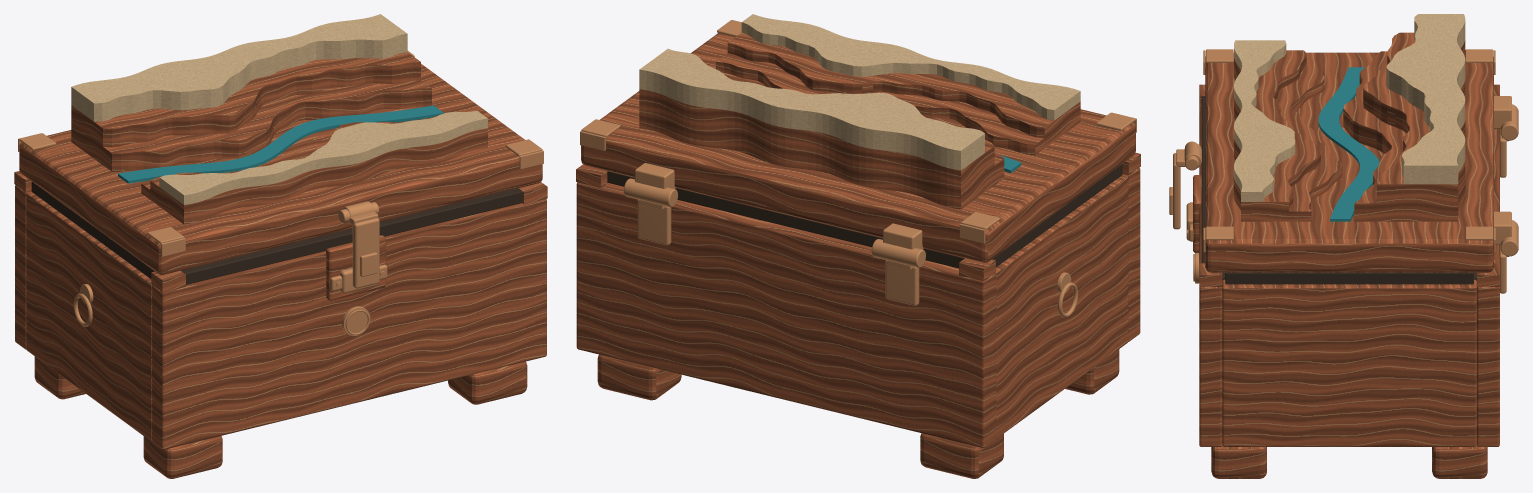
Rendered from united-states.glb.
The picture shows the model from 3 angles, left to right: view 1: azimuth 30°, elevation 25°; view 2: azimuth 150°, elevation 25°; view 3: azimuth 270°, elevation 25°; orthographic projection. The views are drawn at different scales.
Parts seen in each view (by area): view 1: Canyon body / long, Lid / polished slab, Canyon body / side, Canyon rim / 1 terrace 2, Canyon rim / 1 terrace 0, Canyon rim / 1 terrace 1, Canyon rim / -1 terrace 2, Gorge seam / long, Canyon rim / -1 terrace 0, Canyon rim / -1 terrace 1, River / continuous winding channel, Canyon / stone foot (+8 smaller); view 2: Canyon body / long.001, Lid / polished slab, Canyon body / side, Canyon rim / 1 terrace 2, Canyon rim / -1 terrace 2, Canyon rim / -1 terrace 1, Canyon rim / 1 terrace 0, Canyon rim / 1 terrace 1, Canyon rim / -1 terrace 0, Gorge seam / long.001, Canyon / stone foot.001, Canyon / stone foot.003 (+10 smaller); view 3: Canyon body / side.001, Lid / polished slab, Canyon rim / 1 terrace 2, Canyon rim / -1 terrace 2, Canyon rim / 1 terrace 0, Canyon rim / 1 terrace 1, Canyon rim / -1 terrace 0, Canyon rim / -1 terrace 1, Canyon body / long.001, Canyon body / long, River / continuous winding channel, Gorge seam / side.001 (+15 smaller).
Part boxes in pixels (x1,y1,x2,y2): Canyon body / long: [152, 199, 546, 449]; Lid / polished slab: [19, 64, 542, 274]; Canyon body / side: [26, 192, 152, 441]; Canyon rim / 1 terrace 2: [71, 14, 407, 121]; Canyon rim / 1 terrace 0: [71, 80, 431, 171]; Canyon rim / 1 terrace 1: [71, 52, 420, 147]; Canyon rim / -1 terrace 2: [159, 111, 487, 204]; Gorge seam / long: [181, 188, 522, 284]; Canyon rim / -1 terrace 0: [141, 118, 487, 224]; Canyon rim / -1 terrace 1: [150, 111, 487, 214]; River / continuous winding channel: [118, 105, 443, 183]; Canyon / stone foot: [143, 436, 222, 478]; Canyon body / long.001: [576, 182, 995, 447]; Lid / polished slab: [581, 33, 1135, 262]; Canyon body / side: [994, 174, 1128, 439]; Canyon rim / 1 terrace 2: [639, 49, 984, 170]; Canyon rim / -1 terrace 2: [741, 14, 1080, 120]; Canyon rim / -1 terrace 1: [727, 32, 1080, 137]; Canyon rim / 1 terrace 0: [639, 108, 1004, 209]; Canyon rim / 1 terrace 1: [639, 89, 994, 189]; Canyon rim / -1 terrace 0: [716, 53, 1080, 155]; Gorge seam / long.001: [607, 171, 964, 268]; Canyon / stone foot.001: [920, 433, 1003, 478]; Canyon / stone foot.003: [597, 354, 681, 400]; Canyon body / side.001: [1222, 279, 1476, 446]; Lid / polished slab: [1205, 52, 1493, 272]; Canyon rim / 1 terrace 2: [1386, 14, 1465, 184]; Canyon rim / -1 terrace 2: [1233, 40, 1295, 201]; Canyon rim / 1 terrace 0: [1343, 51, 1465, 221]; Canyon rim / 1 terrace 1: [1363, 32, 1465, 202]; Canyon rim / -1 terrace 0: [1233, 60, 1342, 221]; Canyon rim / -1 terrace 1: [1233, 50, 1320, 211]; Canyon body / long.001: [1477, 128, 1499, 446]; Canyon body / long: [1199, 108, 1222, 446]; River / continuous winding channel: [1318, 67, 1379, 221]; Gorge seam / side.001: [1225, 272, 1473, 284].
Size of the model in its own units: 3.79 by 2.75 by 2.88.
5 materials, 2 textured.
